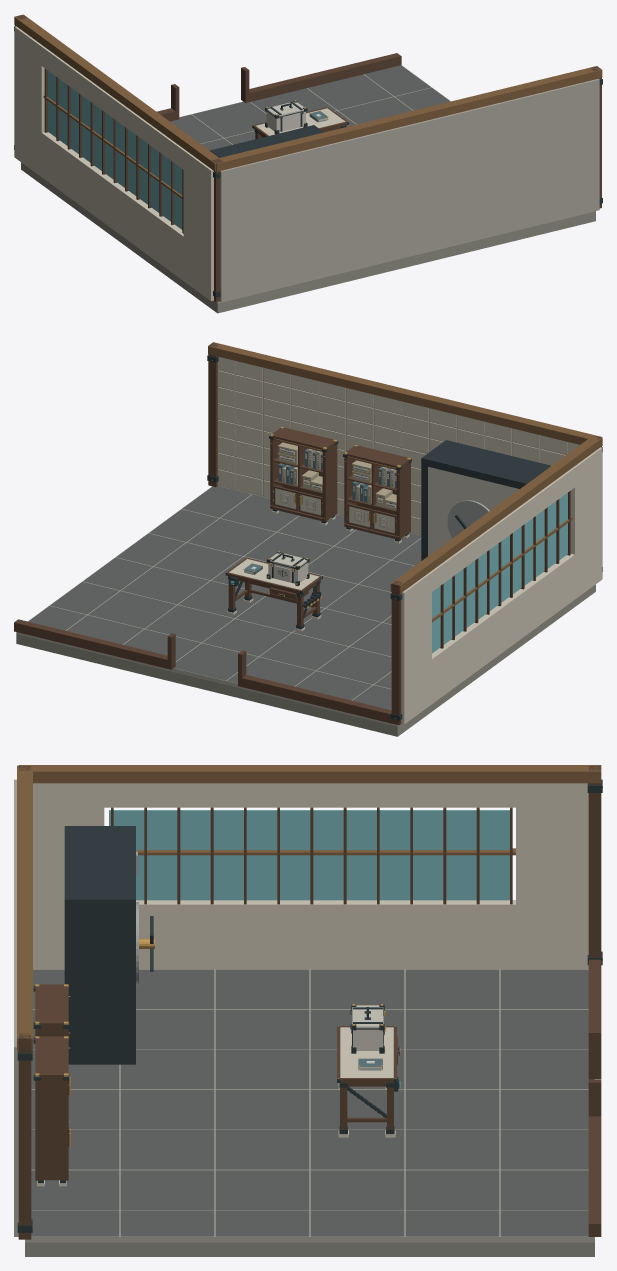
Rendered from visual-far.glb.
3 renders of one model, top to bottom at view 1: azimuth 30°, elevation 25°; view 2: azimuth 150°, elevation 25°; view 3: azimuth 270°, elevation 25°, orthographic. The views are drawn at different scales.
Parts seen in each view (by area): view 1: 真实窗洞、木梁与切角房间墙, 分层实心台基与独立石铺面, 静态密闭档案保险柜及连续圆形锁盘, 公共审计取证盒, 通用工作桌; view 2: 真实窗洞、木梁与切角房间墙, 分层实心台基与独立石铺面, 公共预算账簿柜 (×2), 静态密闭档案保险柜及连续圆形锁盘, 通用工作桌, 公共审计取证盒; view 3: 分层实心台基与独立石铺面, 真实窗洞、木梁与切角房间墙, 静态密闭档案保险柜及连续圆形锁盘, 公共预算账簿柜 (×2), 通用工作桌, 公共审计取证盒.
Boxes of the visible parts, <box> form: 真实窗洞、木梁与切角房间墙: <box>14,14,602,302</box>; 分层实心台基与独立石铺面: <box>21,65,595,313</box>; 静态密闭档案保险柜及连续圆形锁盘: <box>210,125,323,157</box>; 公共审计取证盒: <box>265,100,307,134</box>; 通用工作桌: <box>252,107,348,139</box>; 真实窗洞、木梁与切角房间墙: <box>14,342,602,725</box>; 分层实心台基与独立石铺面: <box>16,485,595,736</box>; 公共预算账簿柜 (×2): <box>269,427,411,543</box>; 静态密闭档案保险柜及连续圆形锁盘: <box>421,440,550,560</box>; 通用工作桌: <box>225,557,322,631</box>; 公共审计取证盒: <box>266,551,309,585</box>; 分层实心台基与独立石铺面: <box>25,969,594,1256</box>; 真实窗洞、木梁与切角房间墙: <box>14,765,602,1239</box>; 静态密闭档案保险柜及连续圆形锁盘: <box>64,826,154,1064</box>; 公共预算账簿柜 (×2): <box>33,984,70,1186</box>; 通用工作桌: <box>337,1026,400,1137</box>; 公共审计取证盒: <box>350,1004,385,1053</box>.
Bounding box in the file's own units: 8.24 × 3.08 × 7.44.
Materials: 25 (25 with a texture image).
